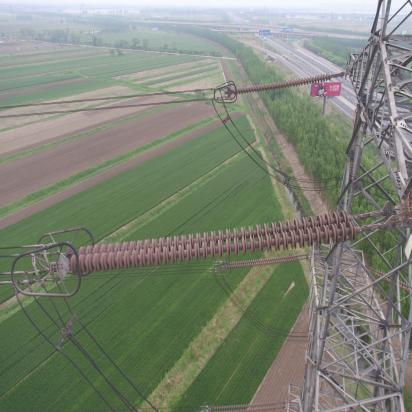insulator: (66, 210, 374, 278), (233, 73, 332, 98)
